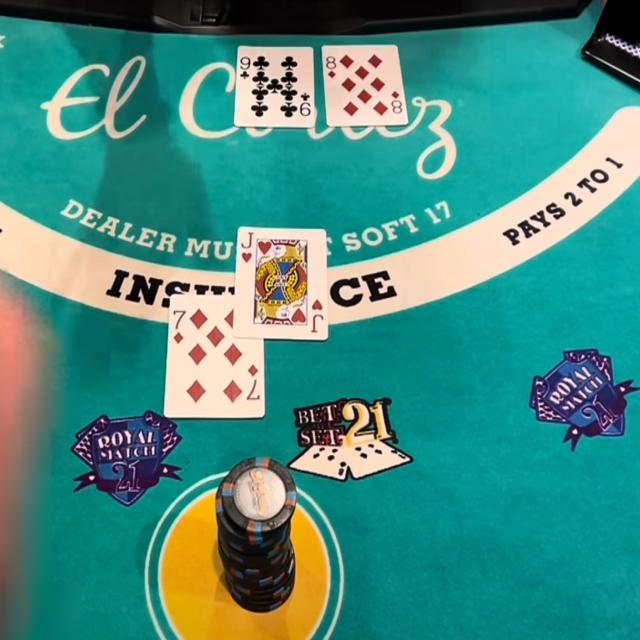7: (172, 307, 186, 330)
8: (325, 54, 337, 70)
9: (238, 52, 252, 70)
J: (240, 230, 254, 249)
